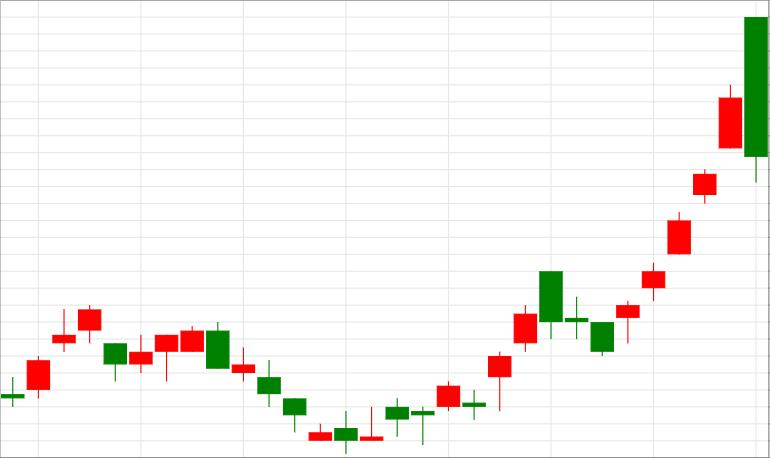bearish_engulfing_fall: (616, 17, 770, 344)
